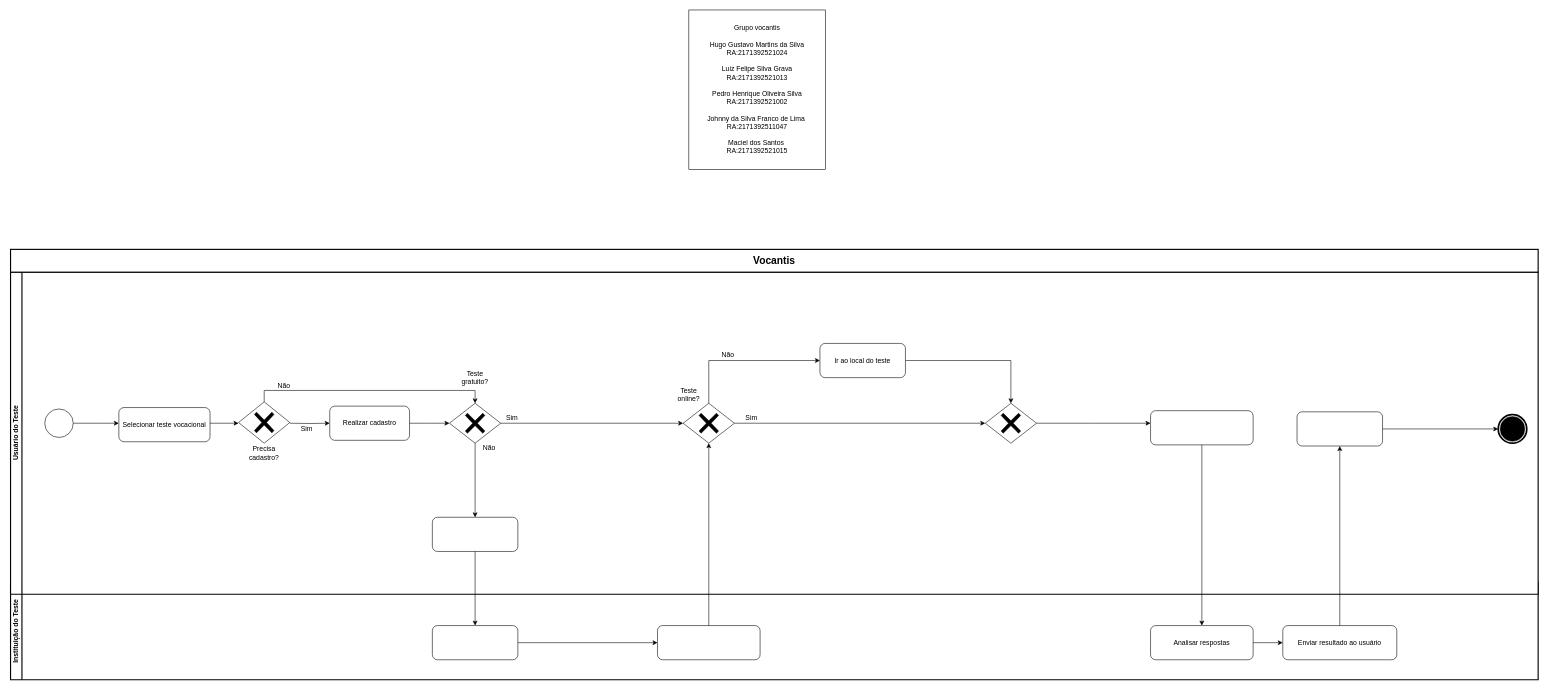
Image size: 1548x690. Some labels were removed from this diagram. Each missing label, with the box of its shape:
Efetuar pagamento: (432, 517, 518, 551)
Liberar realização ao teste: (657, 625, 760, 660)
Realizar teste vocacional: (1150, 410, 1253, 445)
Receber pagamento: (432, 625, 518, 660)
Receber resultado: (1296, 411, 1383, 446)
